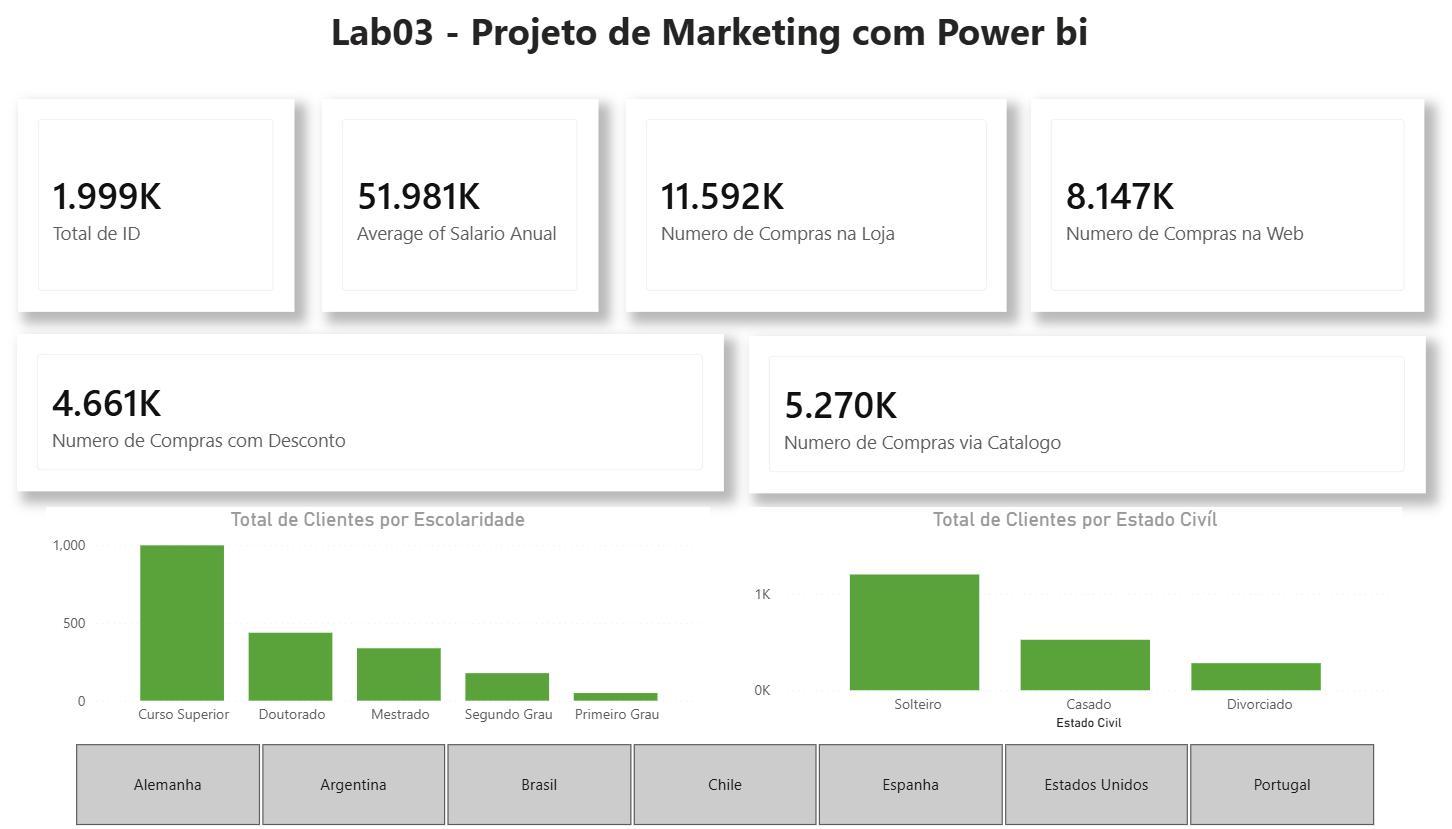

What the dashboard file says about the page in this screenshot:
{"tool":"powerbi","page":{"name":"Visão CLiente","canvas":[1280,720],"ordinal":0},"visuals":[{"type":"cardVisual","fields":{"Data":["CountNonNull(DadosMarketing.ID)"]},"box":[41.2,86.4,238.8,183.9],"z":0},{"type":"cardVisual","fields":{"Data":["Avg(DadosMarketing.Salario Anual)"]},"box":[304.6,86.4,238.8,183.9],"z":1000},{"type":"cardVisual","fields":{"Data":["Sum(DadosMarketing.Numero de Compras na Loja)"]},"box":[566.7,86.4,329.3,183.9],"z":2000},{"type":"cardVisual","fields":{"Data":["Sum(DadosMarketing.Numero de Compras na Web)"]},"box":[916.6,86.4,340.3,183.9],"z":3000},{"type":"cardVisual","fields":{"Data":["Sum(DadosMarketing.Numero de Compras com Desconto)"]},"box":[41.1,289.8,610.8,135.6],"z":4000},{"type":"cardVisual","fields":{"Data":["Sum(DadosMarketing.Numero de Compras via Catalogo)"]},"box":[673,291.1,584.7,135.6],"z":5000},{"type":"textbox","box":[69.7,0,1146.9,62.2],"z":6000},{"type":"clusteredColumnChart","title":"Total de Clientes por Escolaridade","fields":{"Category":["DadosMarketing.Escolaridade"],"Y":["CountNonNull(DadosMarketing.ID)"]},"box":[65.9,439.1,573.6,197.6],"z":7000},{"type":"clusteredColumnChart","title":"Total de Clientes por Estado Civíl","fields":{"Y":["CountNonNull(DadosMarketing.ID)"],"Category":["DadosMarketing.Estado Civil"]},"box":[672.4,439.1,565.4,197.6],"z":8000},{"type":"slicer","fields":{"Values":["DadosMarketing.Pais"]},"box":[65.9,636.7,1171.9,83.7],"z":9000}]}

Visuals, with their boxes in screenshot pixels (x1, y1, x2, y2), scaled from the page's 1280x720 canvas onto the 1452x829 screenshot:
cardVisual - CountNonNull(DadosMarketing.ID): [x1=47, y1=99, x2=318, y2=311]
cardVisual - Avg(DadosMarketing.Salario Anual): [x1=346, y1=99, x2=616, y2=311]
cardVisual - Sum(DadosMarketing.Numero de Compras na Loja): [x1=643, y1=99, x2=1016, y2=311]
cardVisual - Sum(DadosMarketing.Numero de Compras na Web): [x1=1040, y1=99, x2=1426, y2=311]
cardVisual - Sum(DadosMarketing.Numero de Compras com Desconto): [x1=47, y1=334, x2=739, y2=490]
cardVisual - Sum(DadosMarketing.Numero de Compras via Catalogo): [x1=763, y1=335, x2=1427, y2=491]
textbox: [x1=79, y1=0, x2=1380, y2=72]
"Total de Clientes por Escolaridade" clusteredColumnChart: [x1=75, y1=506, x2=725, y2=733]
"Total de Clientes por Estado Civíl" clusteredColumnChart: [x1=763, y1=506, x2=1404, y2=733]
slicer - DadosMarketing.Pais: [x1=75, y1=733, x2=1404, y2=828]
